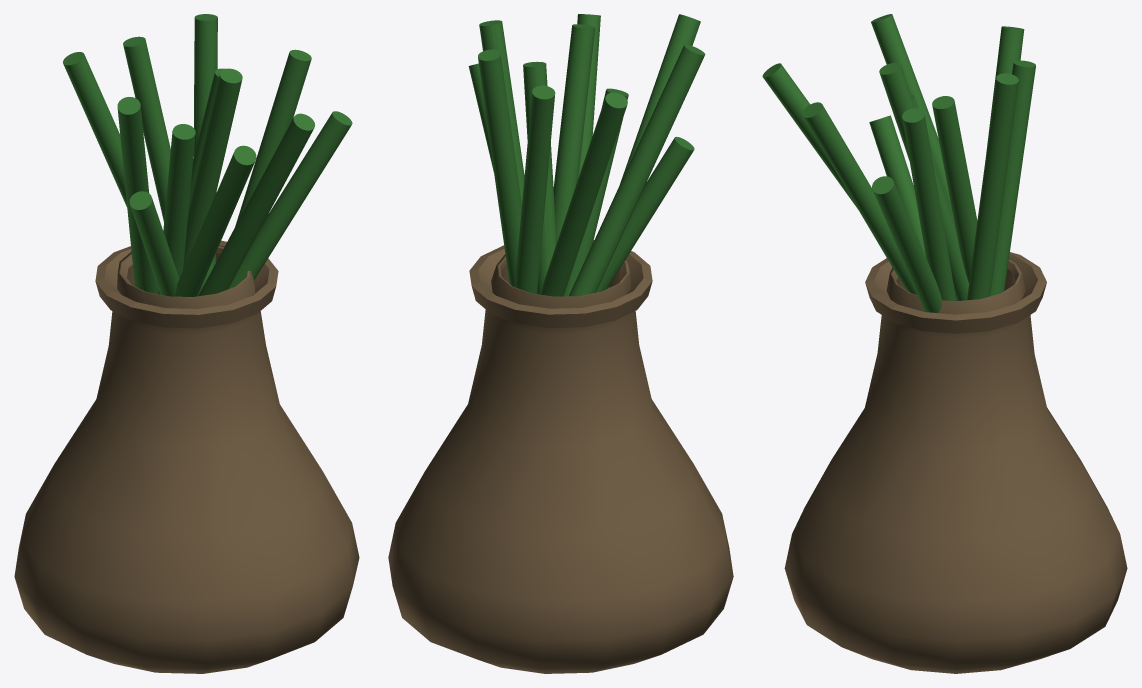
Rendered from small_plant_2 1.fbx.
3 views of the same model, side by side, from view 1: azimuth 30°, elevation 25°; view 2: azimuth 150°, elevation 25°; view 3: azimuth 270°, elevation 25° (orthographic).
Visible parts, largest first — view 1: sketchfab_render:Incense12Incense3; view 2: sketchfab_render:Incense12Incense3; view 3: sketchfab_render:Incense12Incense3.
Boxes of the visible parts, x1,y1,x2,y2 form: sketchfab_render:Incense12Incense3: [14, 14, 359, 673]; sketchfab_render:Incense12Incense3: [388, 14, 733, 673]; sketchfab_render:Incense12Incense3: [762, 14, 1127, 673].
Bounding box in the file's own units: 185 × 345 × 197.
